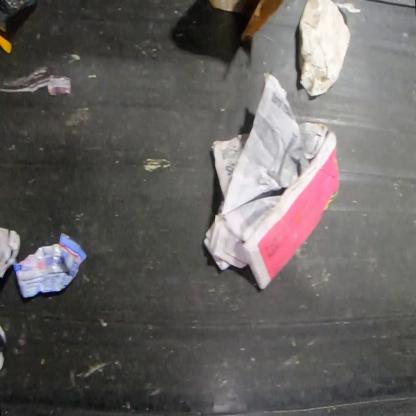cardboard: (209, 0, 282, 41), (0, 226, 21, 280)
soft_plastic: (13, 231, 89, 300), (0, 0, 38, 55)
